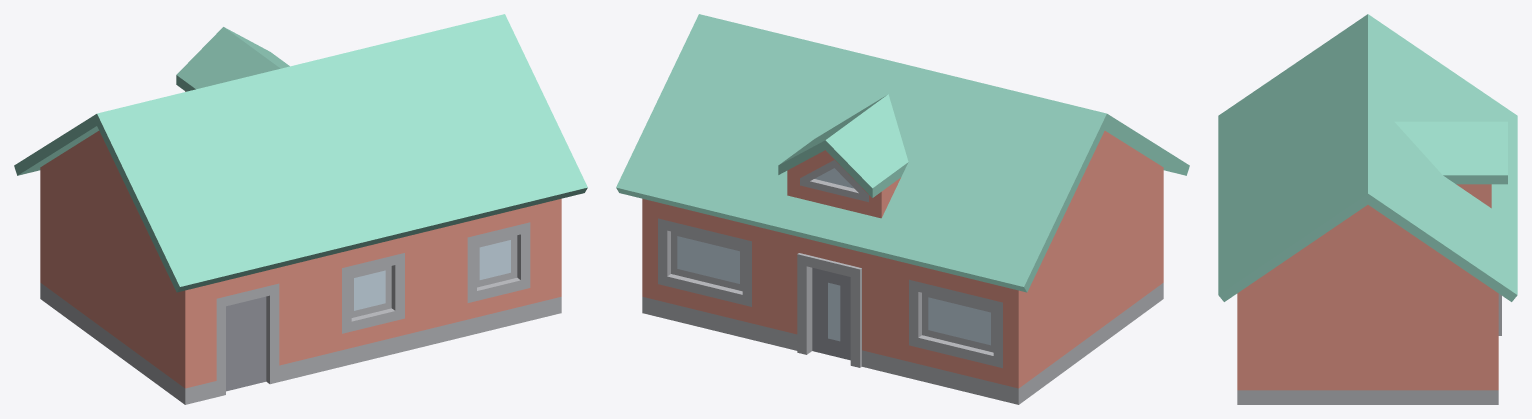
File: House.glb
3 views of the same model, side by side, from view 1: azimuth 30°, elevation 25°; view 2: azimuth 150°, elevation 25°; view 3: azimuth 270°, elevation 25° (orthographic). The views are drawn at different scales.
Visible parts, largest first — view 1: house_type07; view 2: house_type07; view 3: house_type07.
Boxes of the visible parts, <box> form: house_type07: <box>14,14,587,404</box>; house_type07: <box>616,14,1189,404</box>; house_type07: <box>1218,14,1517,404</box>.
Bounding box in the file's own units: 1.3 × 0.7375 × 0.916.
